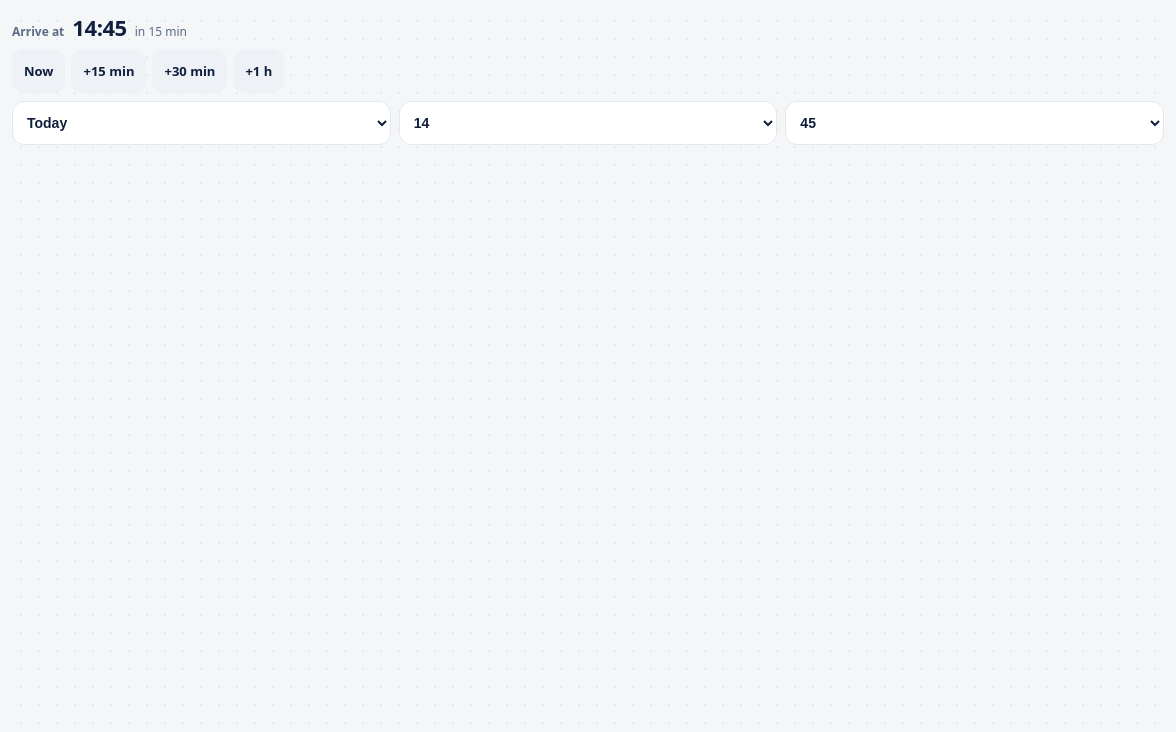
Test: quick chips › makes `now` the way back, since the others only ever go forward
The width and height of the screenshot is (1176, 732).
Click the button "+1 h".
click(259, 71)  # box left=233, top=49, right=284, bottom=93
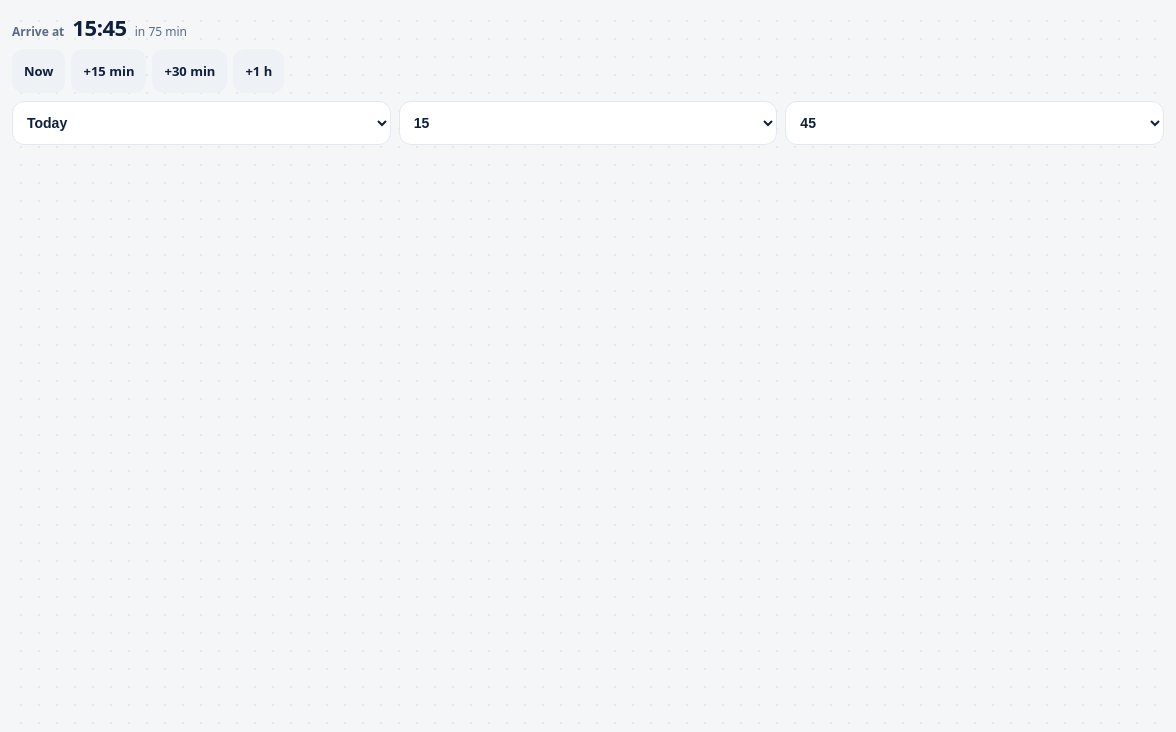
Click the button "Now".
click(39, 71)  # box left=12, top=49, right=66, bottom=93
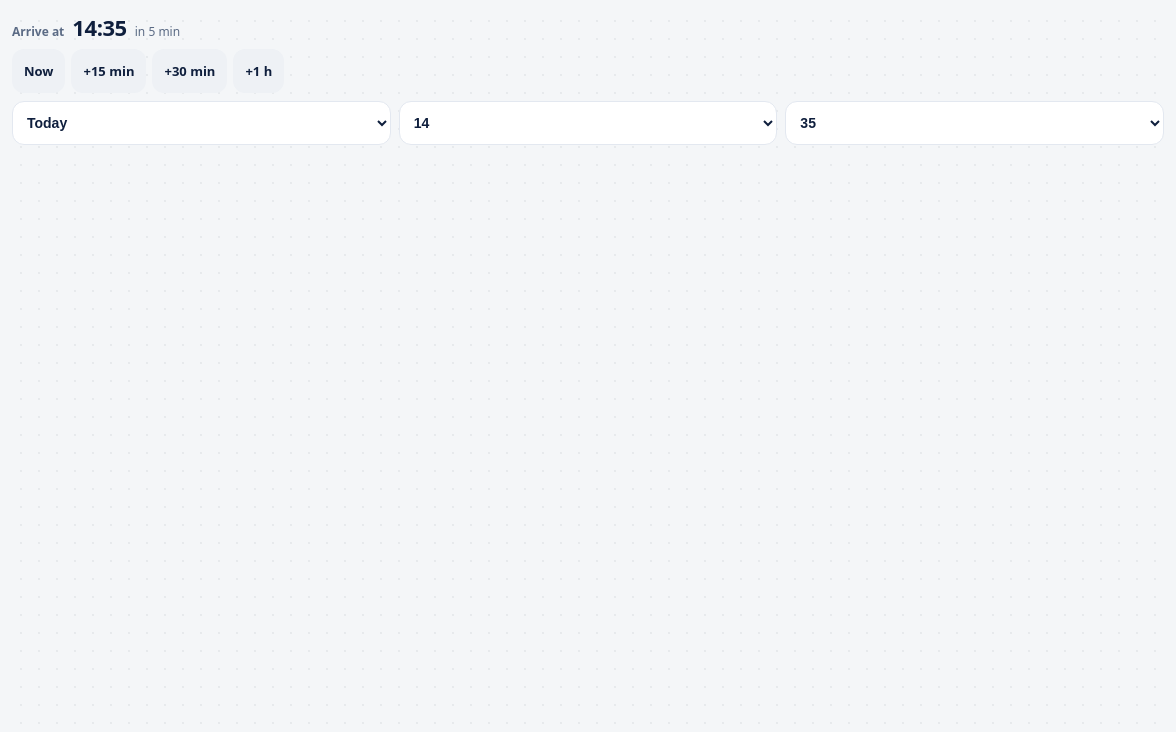
Result: the text with test id "arrival-time" reads "14:35" at left=72, top=12, right=127, bottom=42
